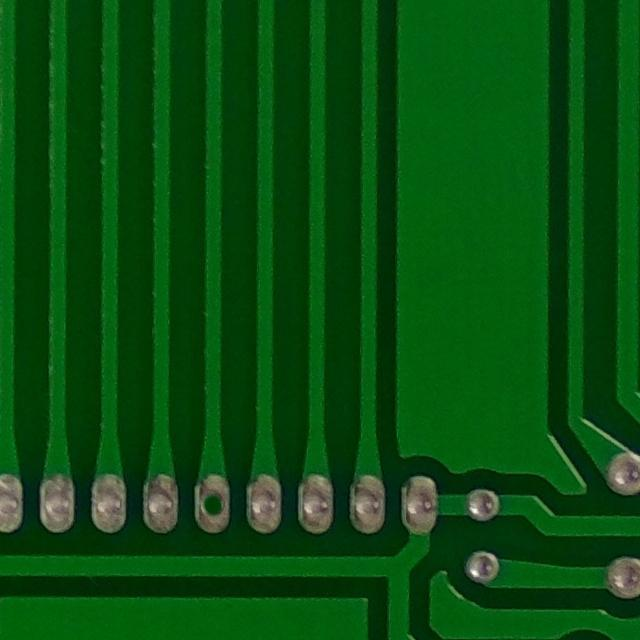missing_hole: (185, 473, 242, 539)
